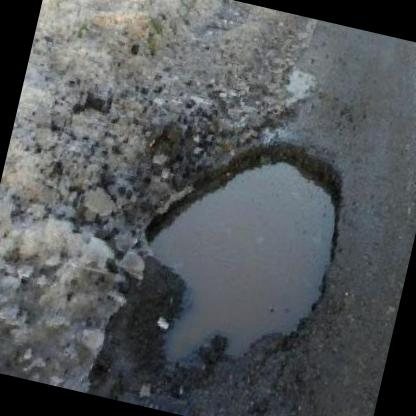pothole: (112, 112, 360, 395), (64, 89, 113, 137), (76, 178, 123, 220)
